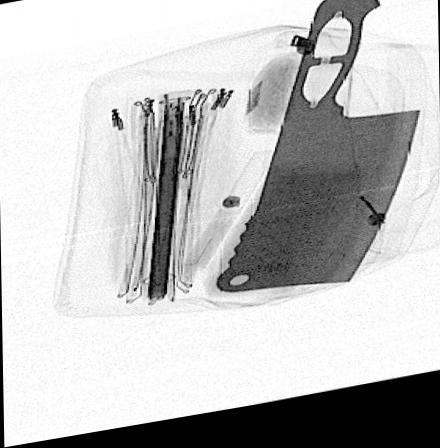Knife: (215, 0, 421, 300)
